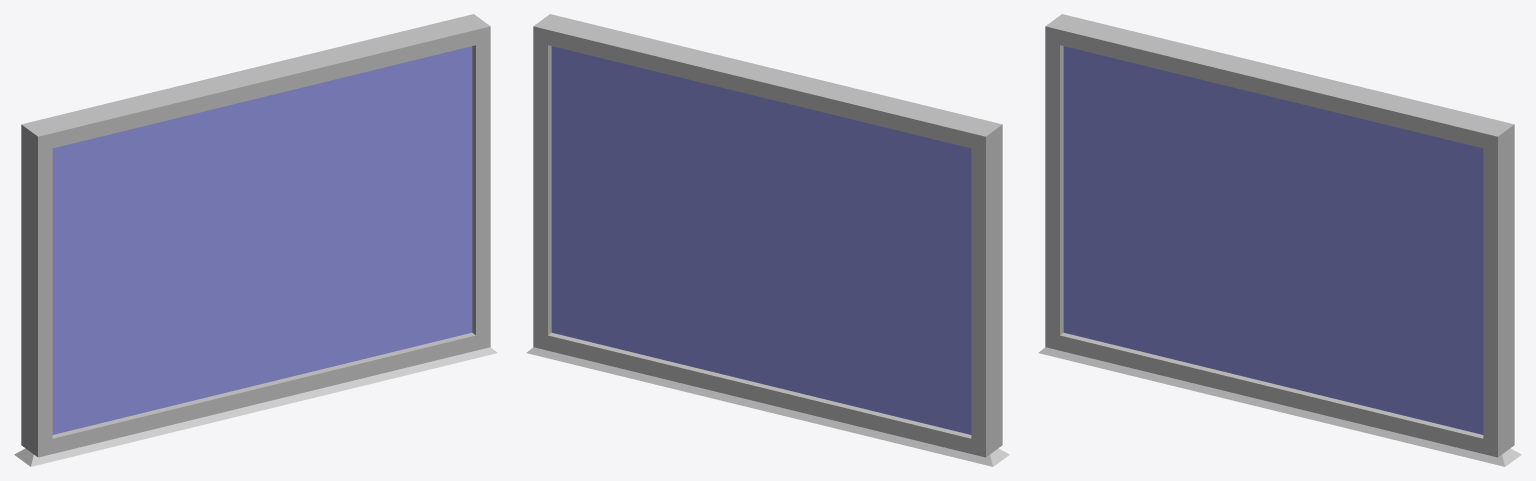
The model's file is antfarm.fbx.
3 views of the same model, side by side, from view 1: azimuth 30°, elevation 25°; view 2: azimuth 150°, elevation 25°; view 3: azimuth 330°, elevation 25° (orthographic).
Visible parts, largest first — view 1: antFarmGlass, antFarm; view 2: antFarmGlass, antFarm; view 3: antFarmGlass, antFarm.
Part boxes in pixels (x1=…): antFarmGlass: x1=52, y1=46, x2=472, y2=434; antFarm: x1=14, y1=14, x2=497, y2=466; antFarmGlass: x1=551, y1=46, x2=971, y2=434; antFarm: x1=526, y1=14, x2=1009, y2=466; antFarmGlass: x1=1063, y1=46, x2=1483, y2=434; antFarm: x1=1038, y1=14, x2=1521, y2=466.
Bounding box in the file's own units: 6400 × 4300 × 400.
